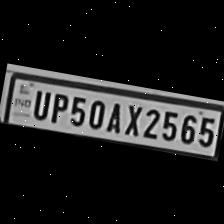0: (83, 94, 108, 130)
2: (138, 103, 162, 140)
5: (192, 112, 218, 149), (64, 90, 89, 127), (156, 106, 180, 142)
6: (175, 110, 198, 144)
A: (103, 98, 127, 135)
P: (45, 88, 69, 125)
U: (27, 86, 52, 122)
X: (119, 100, 143, 136)
